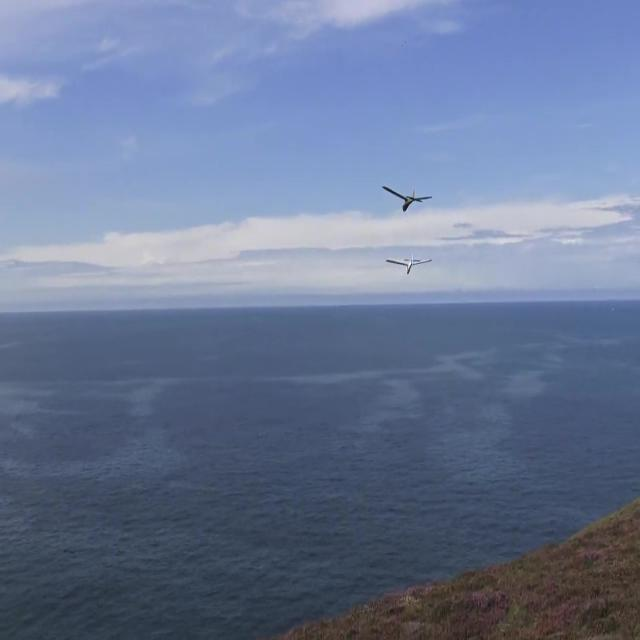iha: (382, 179, 433, 206), (385, 245, 433, 270)
